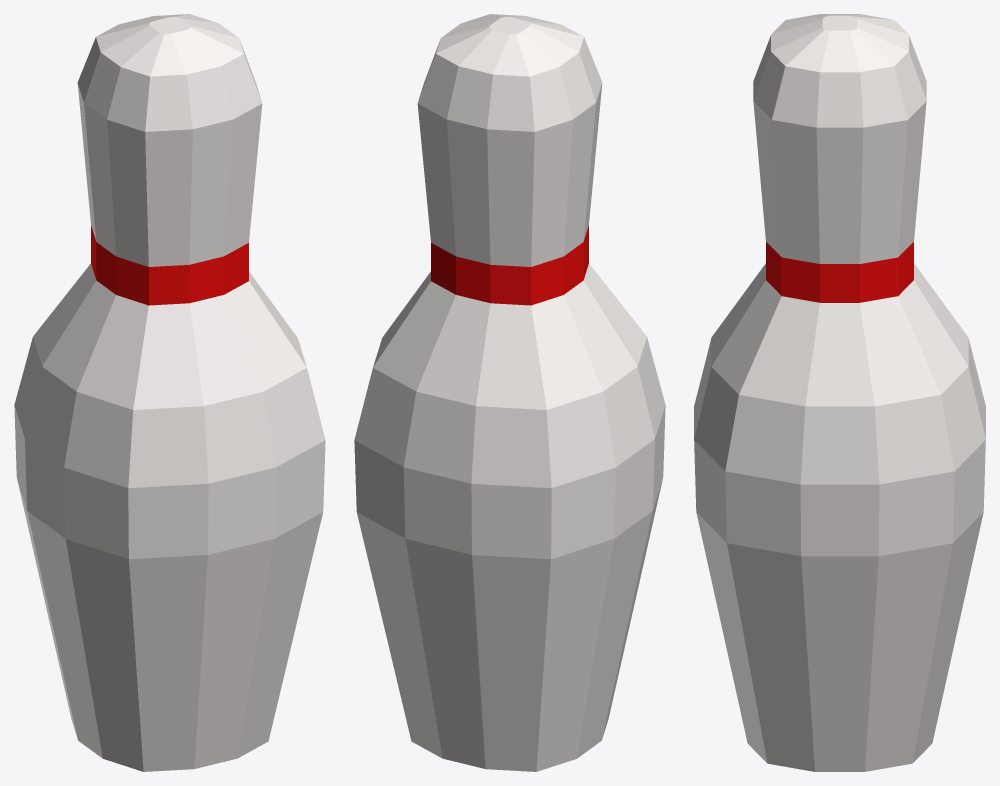
The model's file is bowlingPin.fbx.
3 views of the same model, side by side, from view 1: azimuth 30°, elevation 25°; view 2: azimuth 150°, elevation 25°; view 3: azimuth 270°, elevation 25° (orthographic).
Visible parts, largest first — view 1: BowlingPin; view 2: BowlingPin; view 3: BowlingPin.
Boxes of the visible parts, bbox=[...] form: BowlingPin: bbox=[14, 14, 325, 771]; BowlingPin: bbox=[354, 14, 665, 771]; BowlingPin: bbox=[694, 14, 985, 771].
Size of the model in its own units: 158 by 424 by 158.
